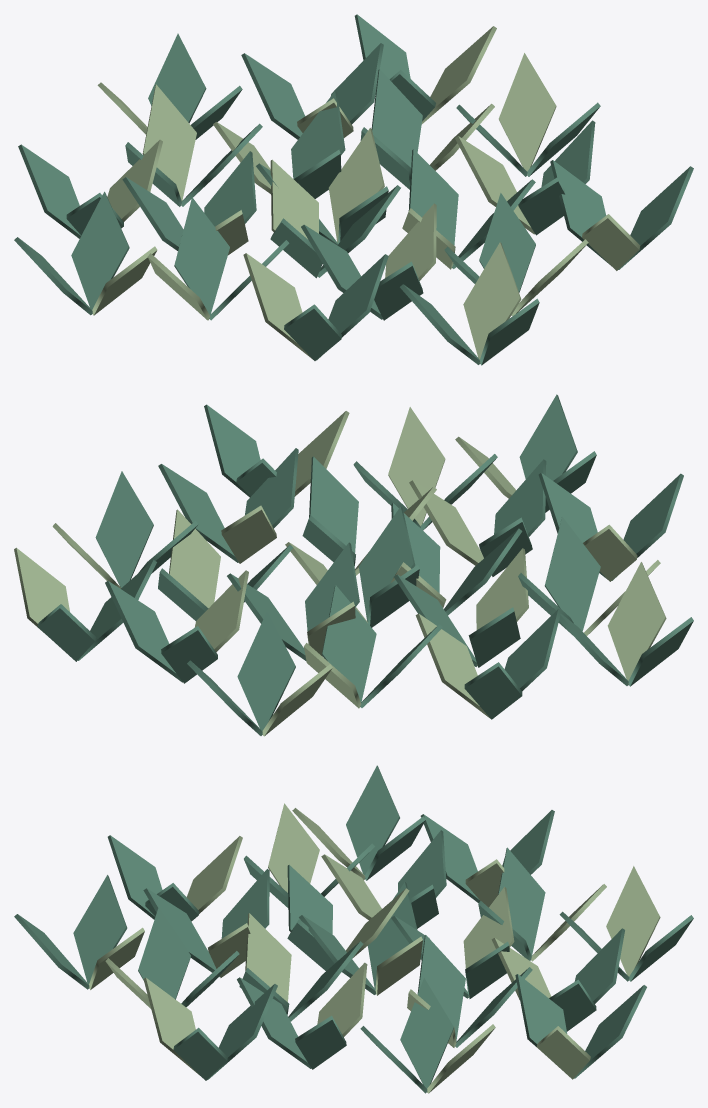
File: primeval-frontier-ground-cover-patch-974dac84__1741.glb
3 renders of one model, top to bottom at view 1: azimuth 30°, elevation 25°; view 2: azimuth 150°, elevation 25°; view 3: azimuth 270°, elevation 25°, orthographic. The views are drawn at different scales.
Parts seen in each view (by area): view 1: ground-cover-patch; view 2: ground-cover-patch; view 3: ground-cover-patch.
Part boxes in pixels (box(x1,y1,x2,y2)): ground-cover-patch: box(14, 14, 693, 365); ground-cover-patch: box(14, 394, 693, 736); ground-cover-patch: box(14, 765, 693, 1093).
Bounding box in the file's own units: 2.13 × 0.3156 × 2.31.
